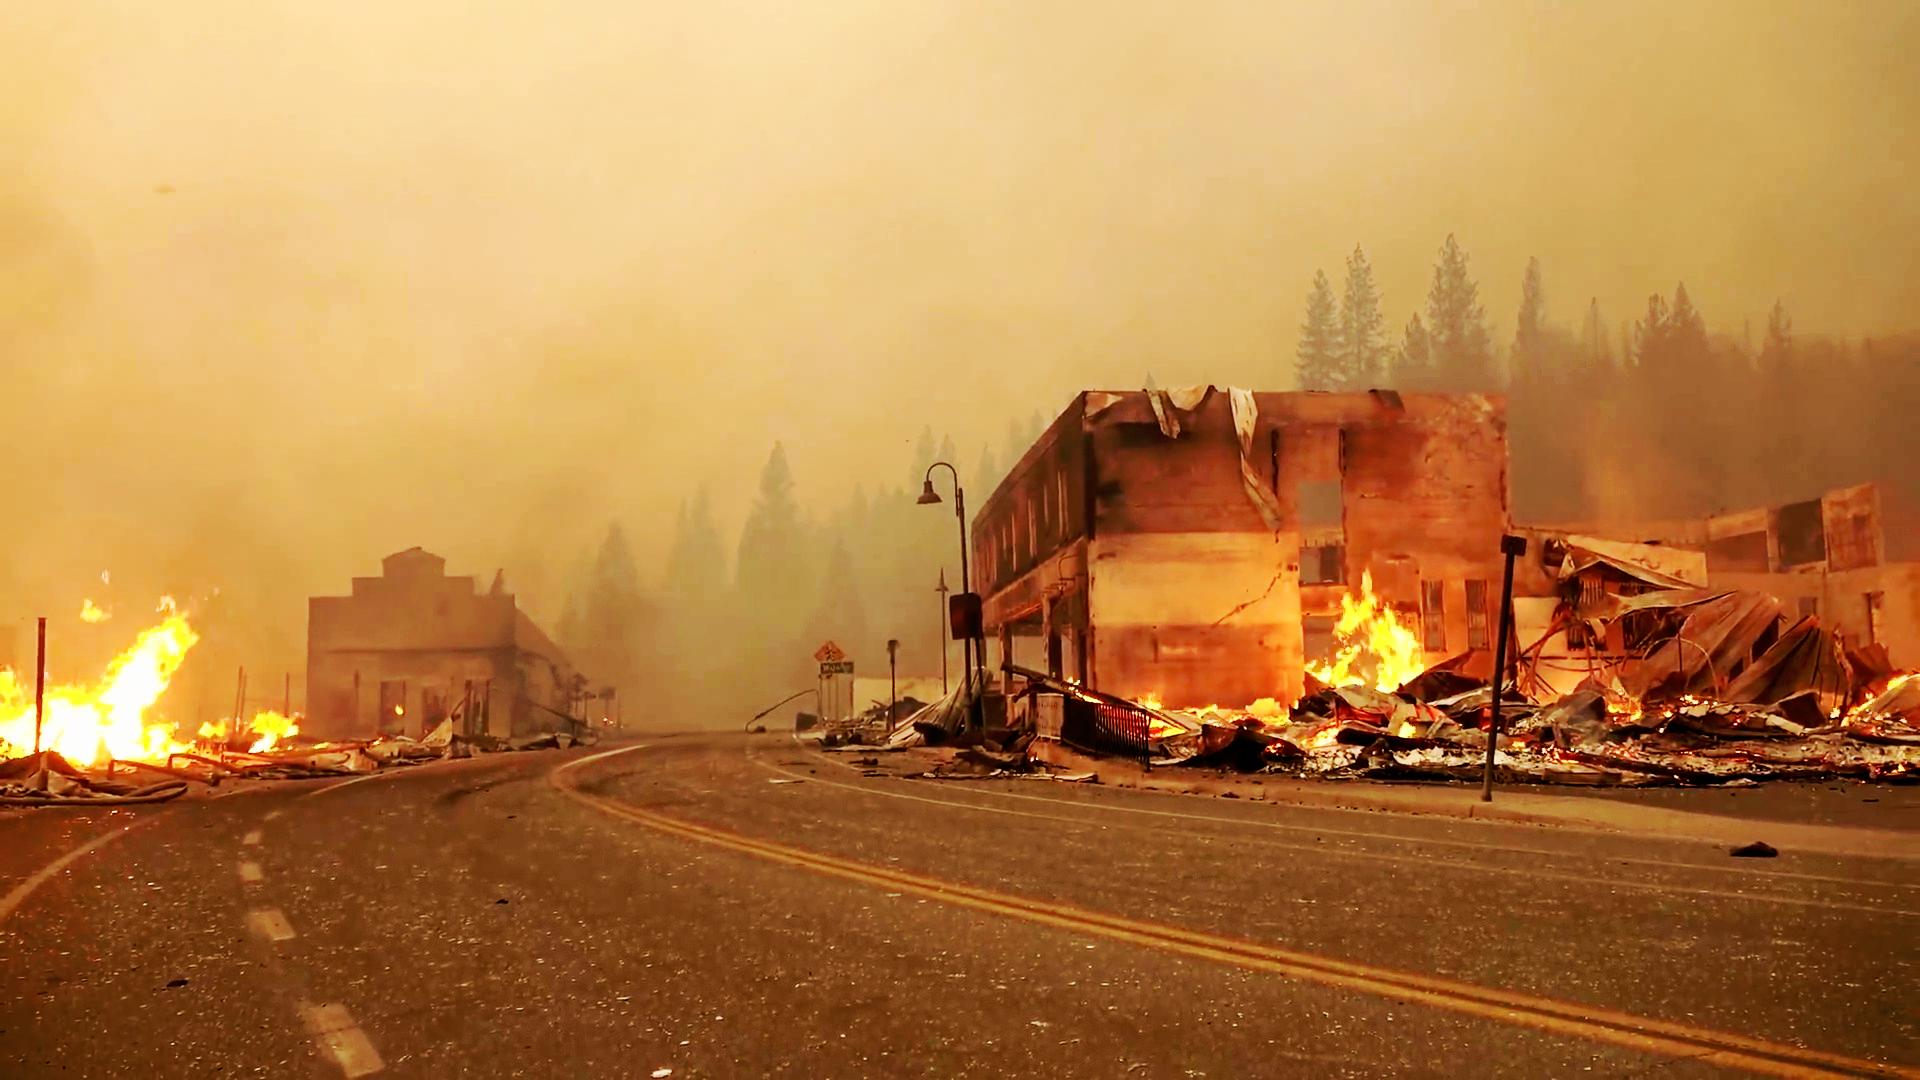fire: (4, 641, 218, 785), (1321, 620, 1431, 682)
